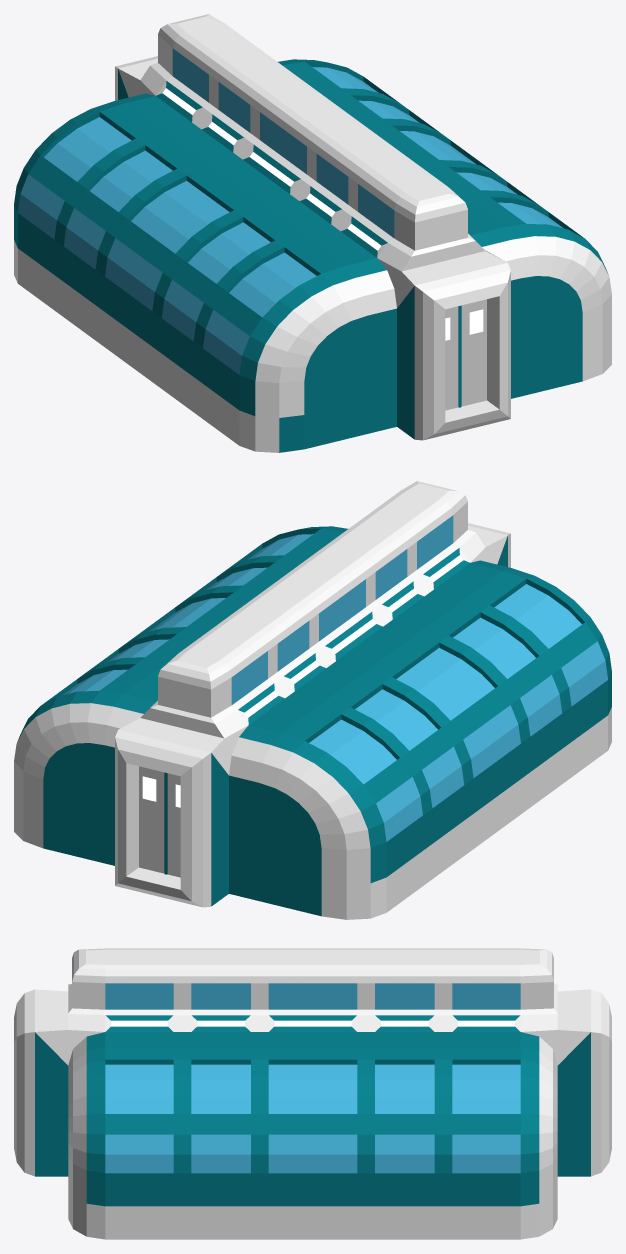
The model's file is cafe  module.fbx.
3 views of the same model, one above another, from view 1: azimuth 30°, elevation 25°; view 2: azimuth 150°, elevation 25°; view 3: azimuth 270°, elevation 25° (orthographic). The views are drawn at different scales.
Parts seen in each view (by area): view 1: Kitchen Module; view 2: Kitchen Module; view 3: Kitchen Module.
Part boxes in pixels (x1=…): Kitchen Module: x1=14, y1=14, x2=611, y2=452; Kitchen Module: x1=14, y1=481, x2=611, y2=919; Kitchen Module: x1=14, y1=948, x2=611, y2=1239.
Bounding box in the file's own units: 721 × 394 × 1080.
